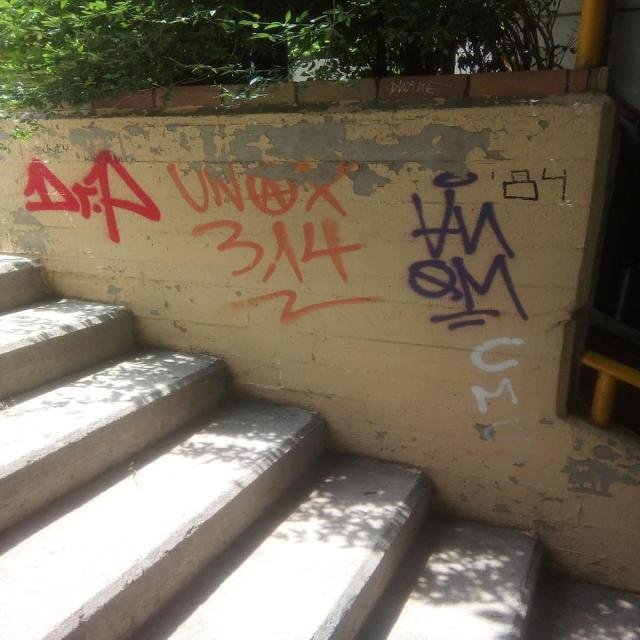nonspitting: (167, 160, 376, 318), (404, 169, 528, 328), (23, 148, 164, 243), (470, 334, 528, 410), (507, 164, 568, 202)
